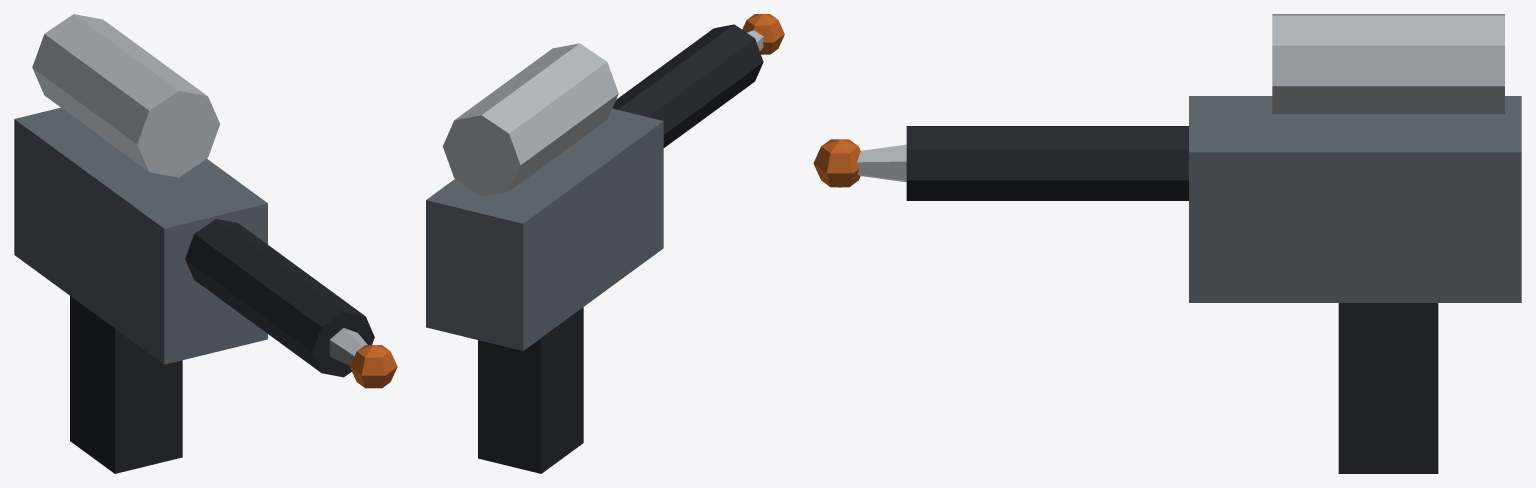
Rendered from fusion-cutter.glb.
3 renders of one model, left to right at view 1: azimuth 30°, elevation 25°; view 2: azimuth 150°, elevation 25°; view 3: azimuth 270°, elevation 25°, orthographic. The views are drawn at different scales.
Visible parts, largest first — view 1: m; view 2: m; view 3: m.
Part boxes in pixels (left/top/right/bottom): m: left=14, top=14, right=397, bottom=473; m: left=426, top=14, right=784, bottom=473; m: left=813, top=14, right=1521, bottom=473.
Size of the model in its own units: 0.0375 by 0.1371 by 0.2.
